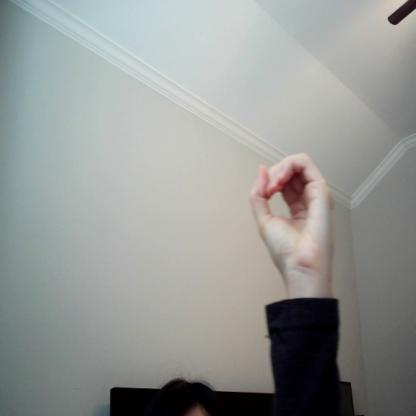zero: (249, 149, 334, 272)
